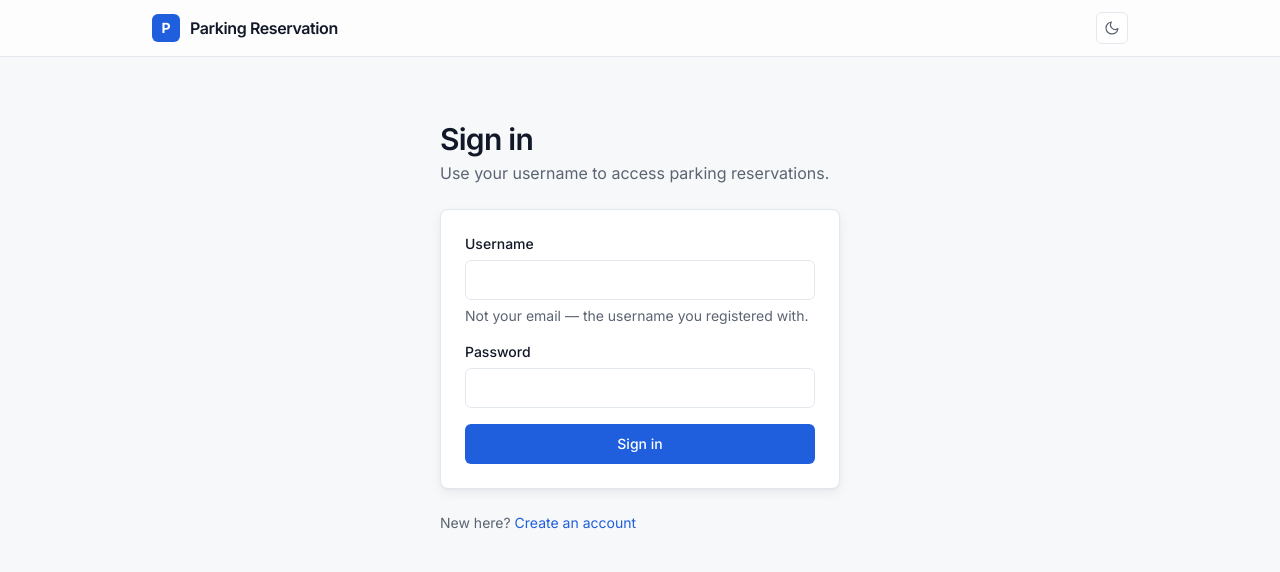
LoginPage › shows validation errors on empty submit and does not navigate
Click the button "Sign in": [640, 444] box [465,424,815,464]
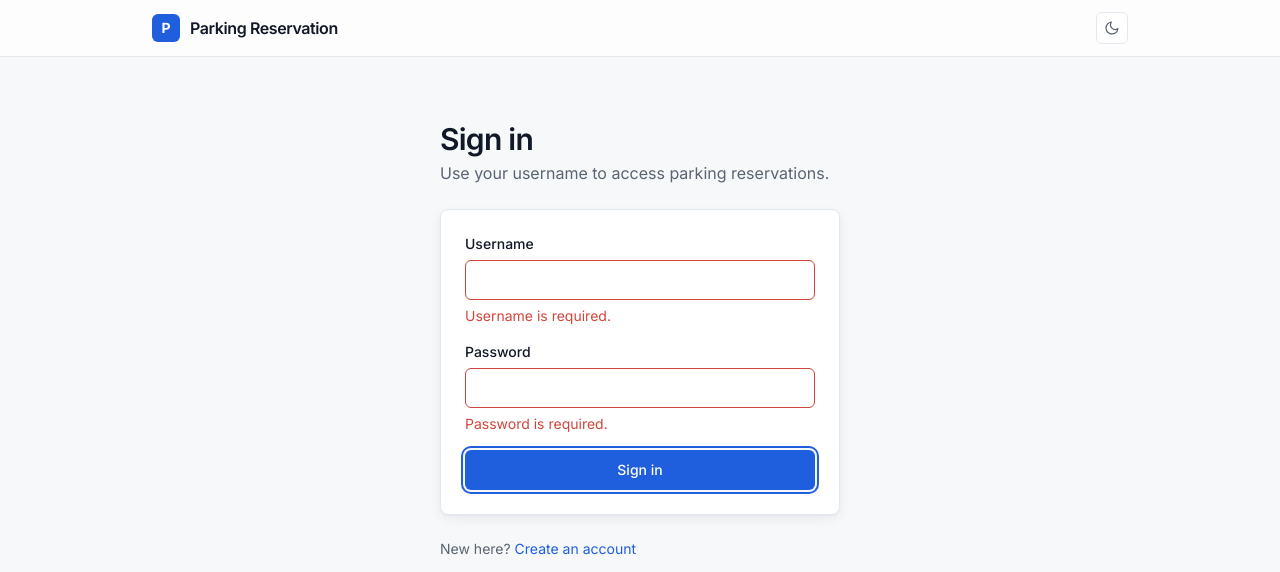
expect the text "Username is required." is shown: met, box [465,307,611,324]
expect the text "Password is required." is shown: met, box [465,415,608,432]
